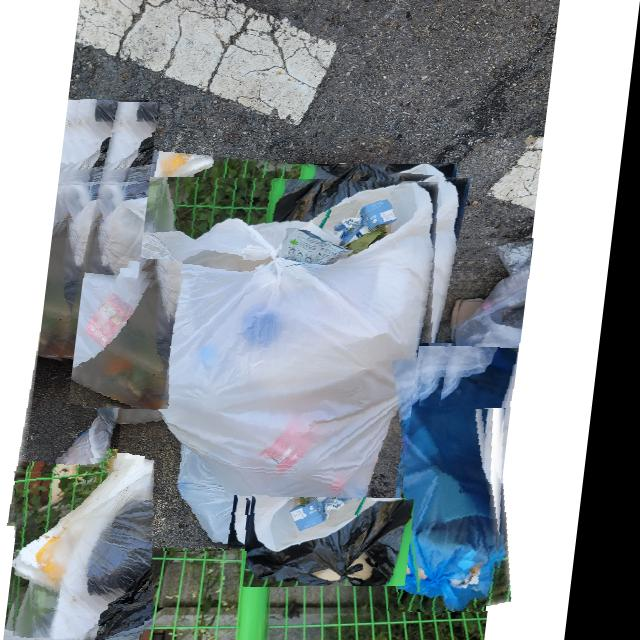other_trashbag: (129, 180, 447, 550), (51, 127, 159, 529), (417, 343, 515, 611), (30, 459, 167, 640), (261, 497, 428, 585), (82, 278, 181, 408), (464, 239, 538, 407)
